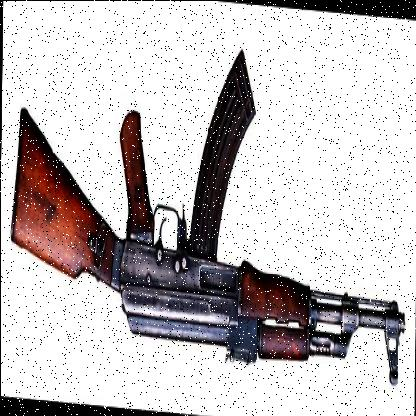rifle: (8, 38, 404, 398)
